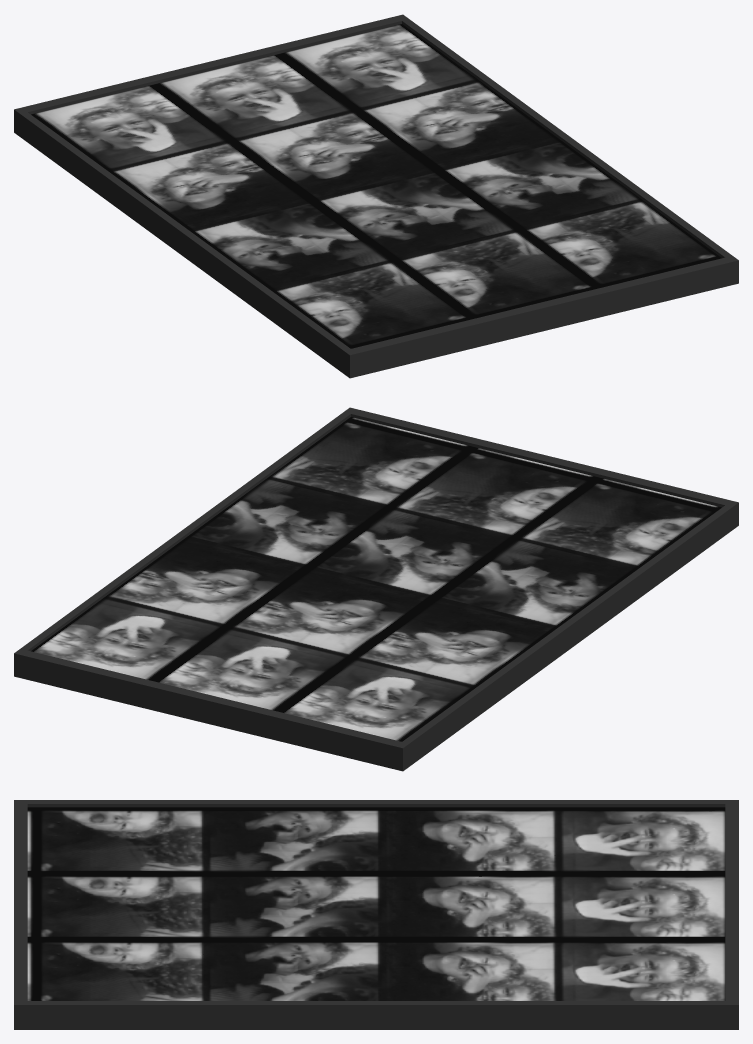
The picture shows the model from 3 angles, top to bottom: view 1: azimuth 30°, elevation 25°; view 2: azimuth 150°, elevation 25°; view 3: azimuth 270°, elevation 25°; orthographic projection. The views are drawn at different scales.
Parts seen in each view (by area): view 1: Plane; view 2: Plane; view 3: Plane.
Boxes of the visible parts, bbox=[...] form: Plane: bbox=[14, 14, 738, 378]; Plane: bbox=[14, 407, 738, 771]; Plane: bbox=[14, 800, 738, 1029].
Size of the model in its own units: 921 by 52.42 by 1377.
2 materials, 1 textured.
